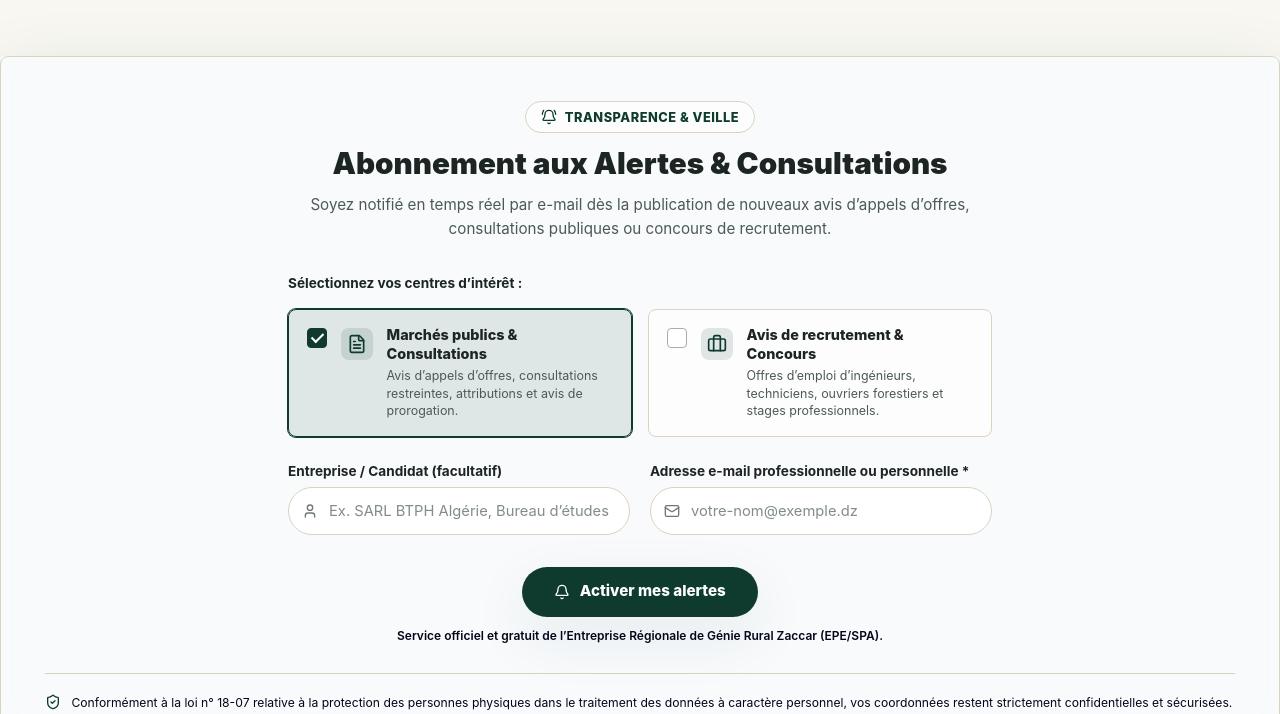
Test: AlertSubscriptionCard › shows validation error when no topic is selected
Click the checkbox labelled "Marchés publics & Consultations" at (317, 338), box [307,328,327,348]
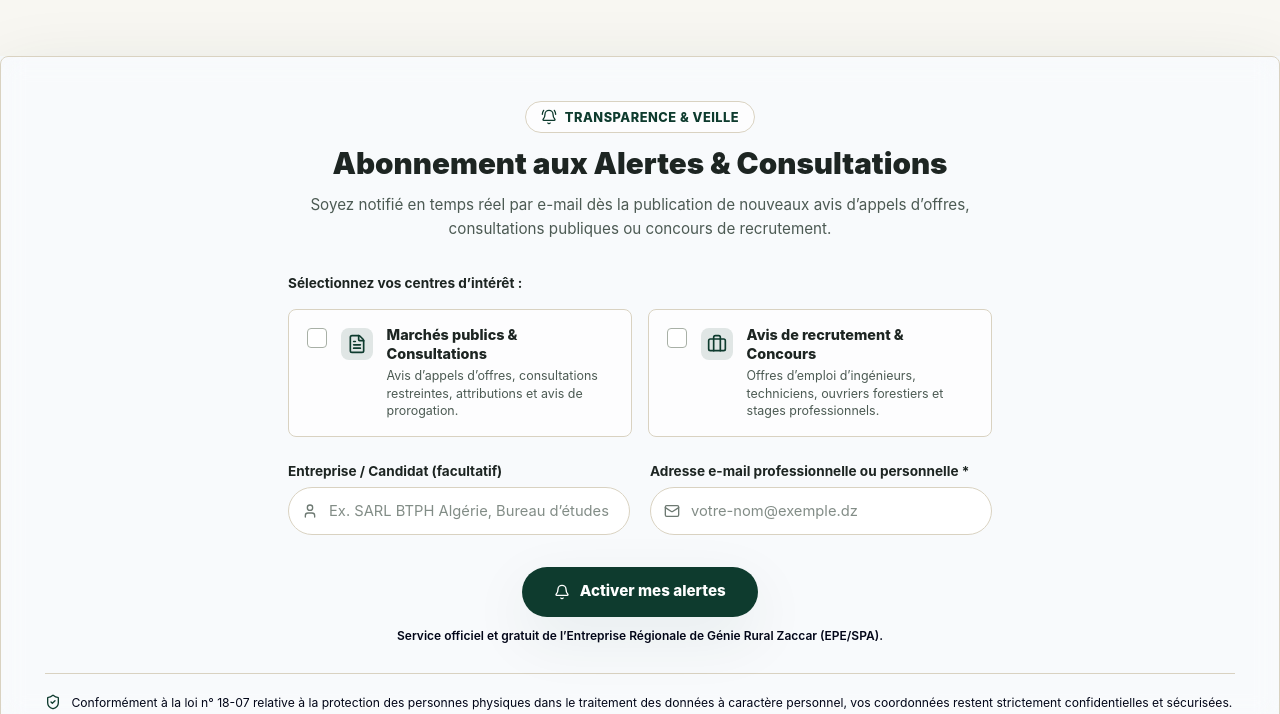
Type "fournisseur@btph.dz" into the field with placeholder "votre-nom@exemple.dz" at (821, 511), box [650,487,992,535]
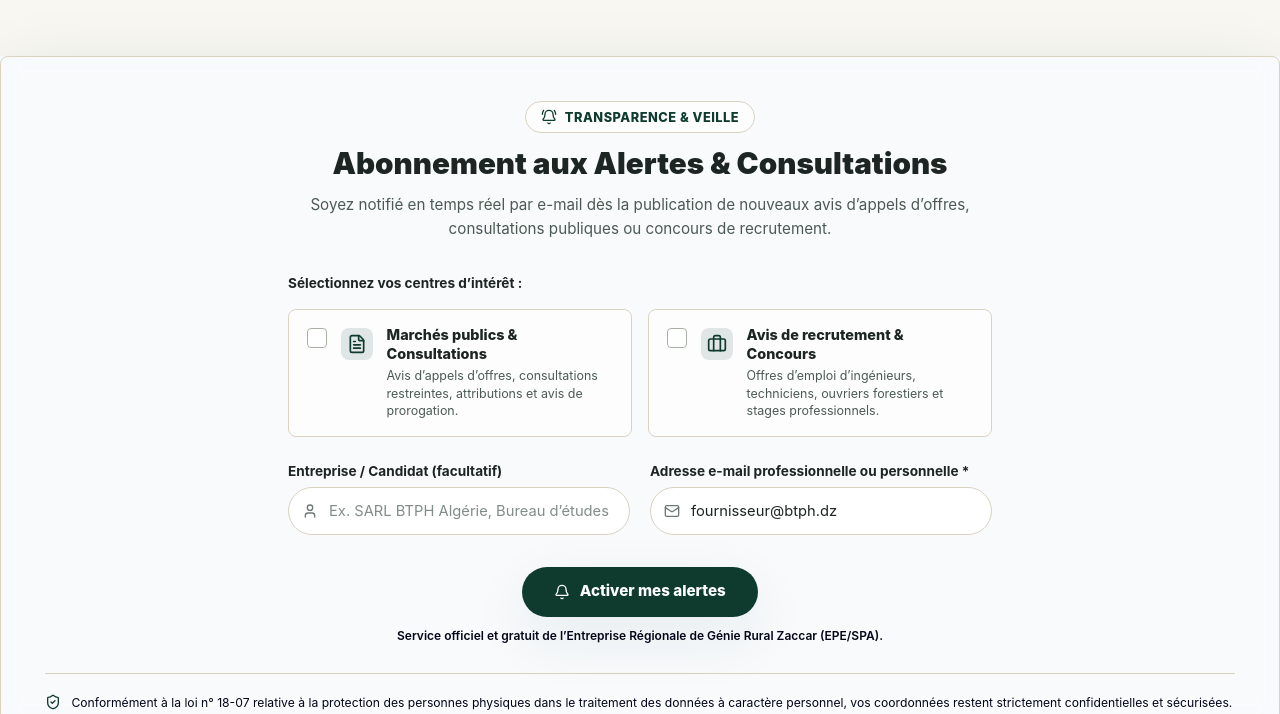
Click the button "Activer mes alertes" at (640, 592), box [522,567,758,617]
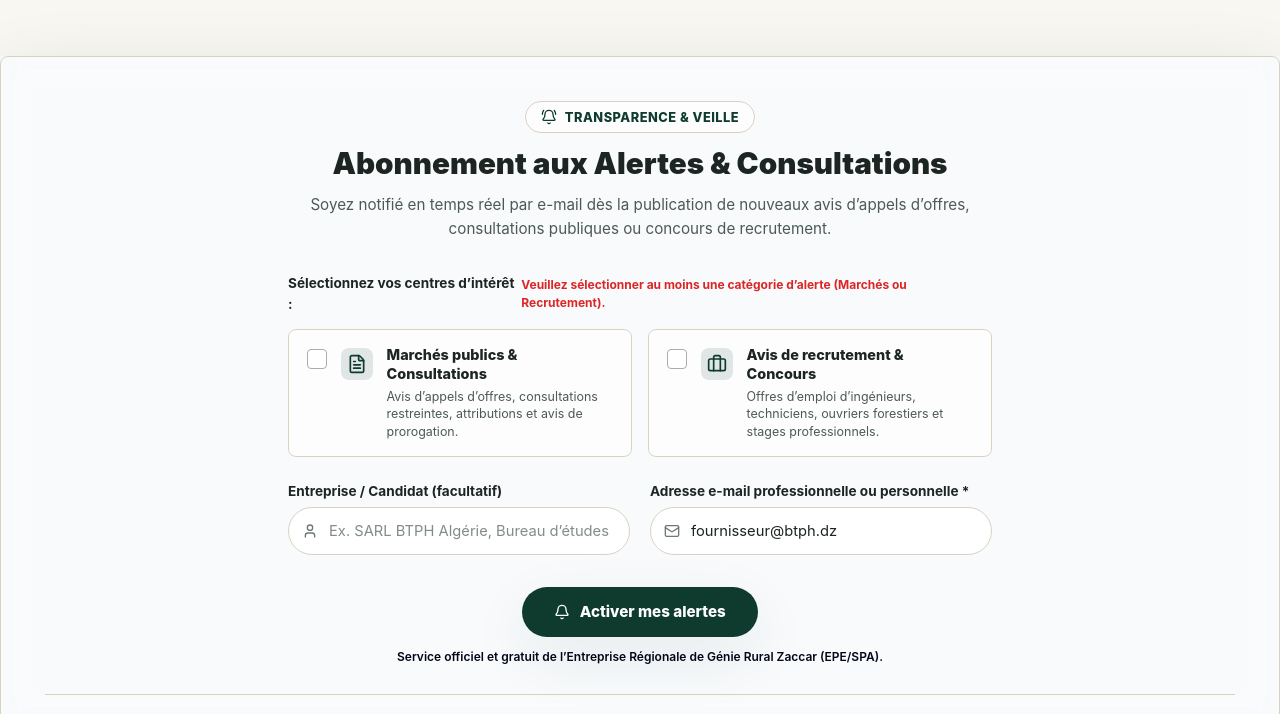
Expected: the text "Veuillez sélectionner au moins une catégorie d’alerte" is shown, [521,277,907,310]
